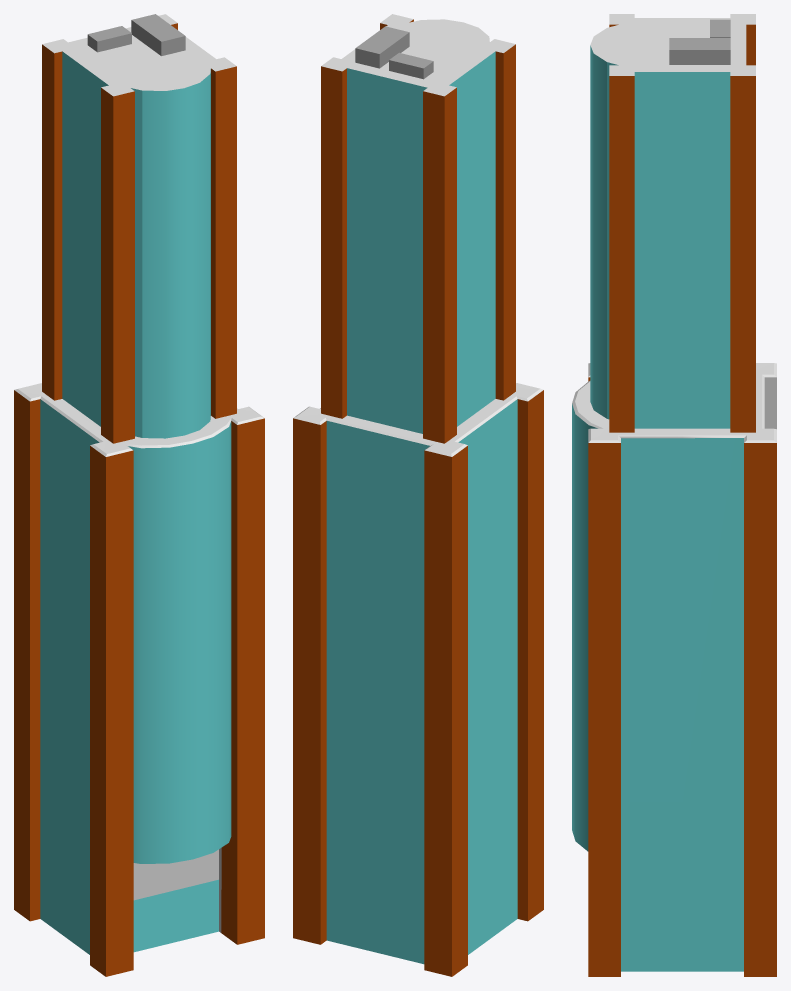
The model's file is biru1_ta.fbx.
3 renders of one model, left to right at view 1: azimuth 30°, elevation 25°; view 2: azimuth 150°, elevation 25°; view 3: azimuth 270°, elevation 25°, orthographic. The views are drawn at different scales.
Visible parts, largest first — view 1: ta_biru1_o; view 2: ta_biru1_o; view 3: ta_biru1_o.
Boxes of the visible parts, <box> form: ta_biru1_o: <box>14,14,264,976</box>; ta_biru1_o: <box>293,14,543,976</box>; ta_biru1_o: <box>572,14,776,976</box>.
Bounding box in the file's own units: 46 × 244 × 49.96.
